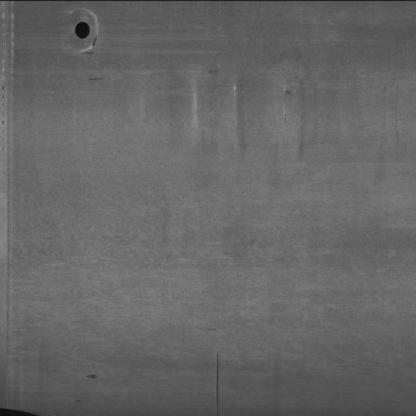crease: (205, 343, 229, 416)
crescent_gap: (0, 403, 47, 415)
punching_hole: (70, 17, 92, 41)
